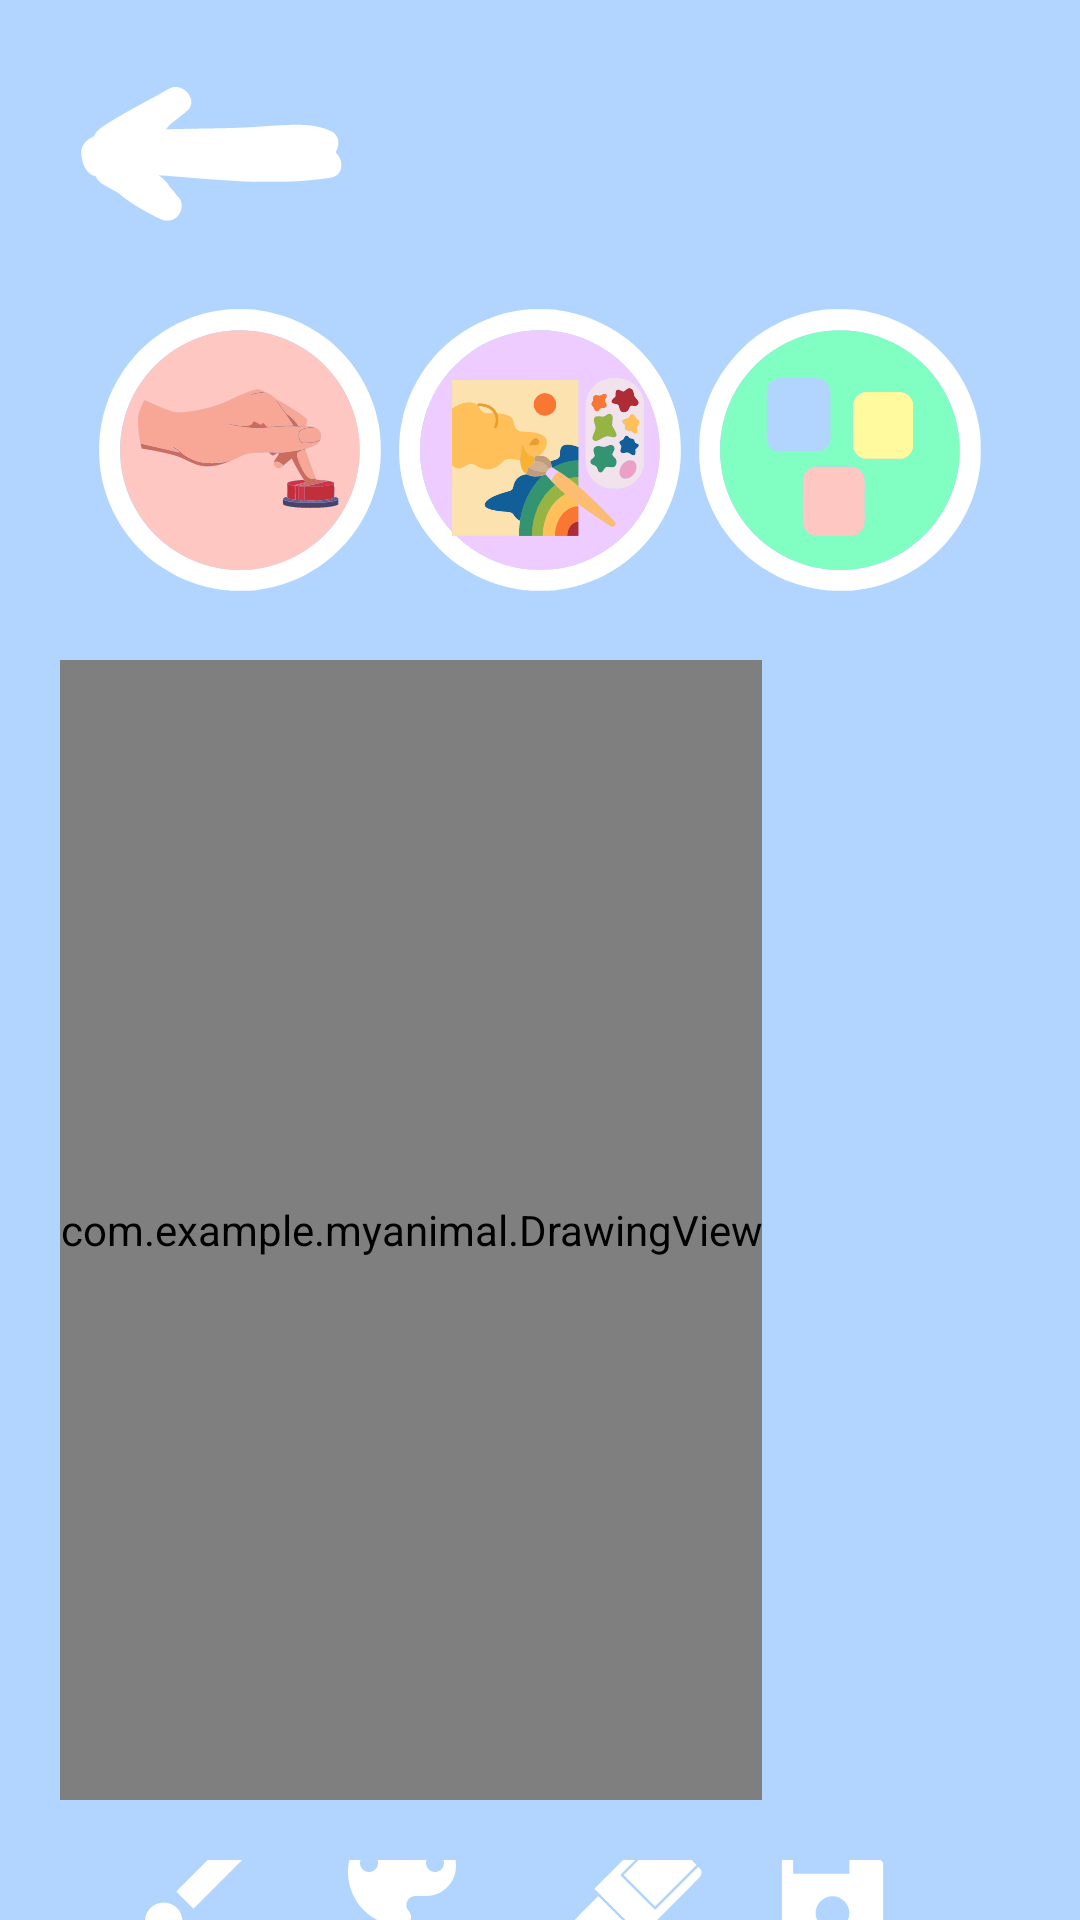

Icons on this 1080 x 1920 Android screen, each with the point to tap as (x,y):
backarrow: (211,154)
block: (840,450)
click switch: (240,450)
